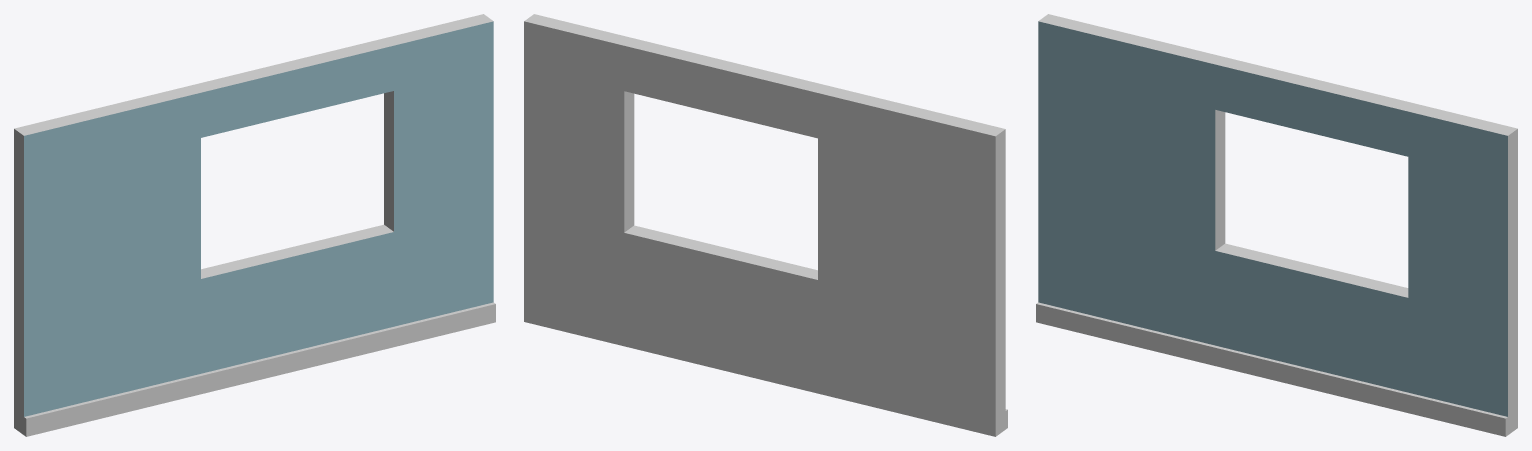
Rendered from window wall.FBX.
The picture shows the model from 3 angles, left to right: view 1: azimuth 30°, elevation 25°; view 2: azimuth 150°, elevation 25°; view 3: azimuth 330°, elevation 25°; orthographic projection.
Parts seen in each view (by area): view 1: window wall; view 2: window wall; view 3: window wall.
Boxes of the visible parts, x1,y1,x2,y2 form: window wall: (14,14,495,436); window wall: (524,14,1007,436); window wall: (1036,14,1517,436).
Size of the model in its own units: 492 by 300 by 22.13.
